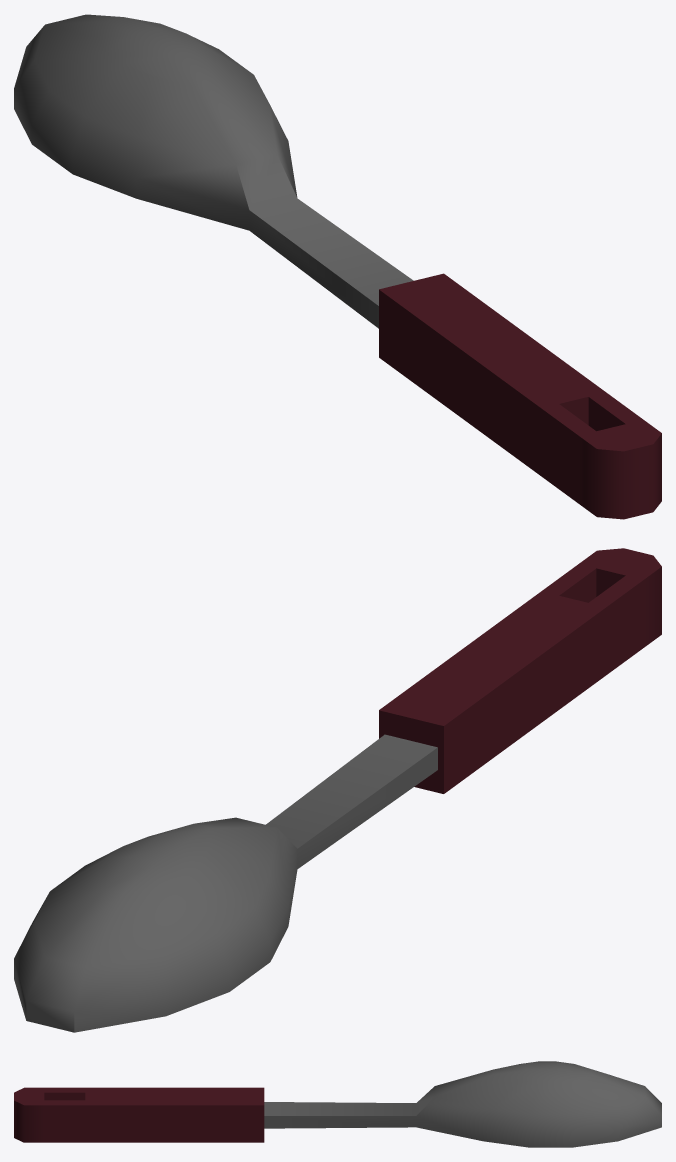
Rendered from utensil_serving_spoon.fbx.
3 views of the same model, one above another, from view 1: azimuth 30°, elevation 25°; view 2: azimuth 150°, elevation 25°; view 3: azimuth 270°, elevation 25° (orthographic). The views are drawn at different scales.
Parts seen in each view (by area): view 1: serving spoon; view 2: serving spoon; view 3: serving spoon.
Part boxes in pixels (x1,y1,x2,y2): serving spoon: (14,14,661,519); serving spoon: (14,548,661,1032); serving spoon: (14,1061,661,1147).
Size of the model in its own units: 69.22 by 40.88 by 357.
